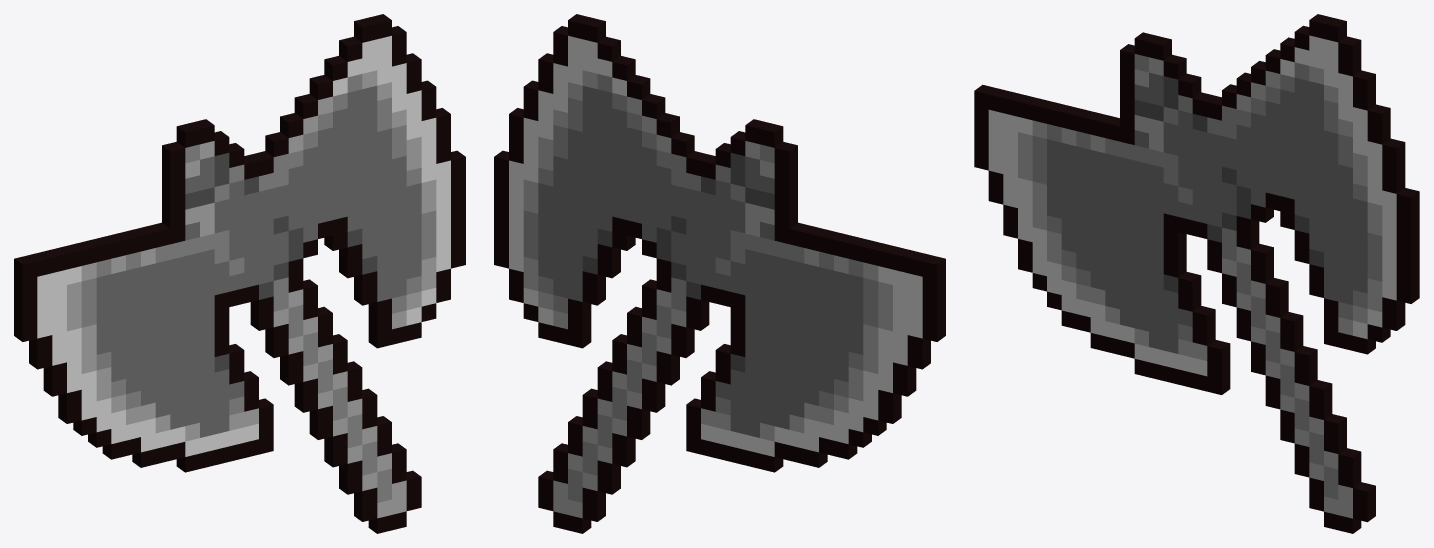
File: W_Axe014.fbx
3 renders of one model, left to right at view 1: azimuth 30°, elevation 25°; view 2: azimuth 150°, elevation 25°; view 3: azimuth 330°, elevation 25°, orthographic.
Parts seen in each view (by area): view 1: Default; view 2: Default; view 3: Default.
Part boxes in pixels (<box>): Default: <box>14,14,465,533</box>; Default: <box>494,14,945,533</box>; Default: <box>974,14,1419,533</box>.
Bounding box in the file's own units: 30 × 33 × 1.
1 material, 1 textured.
